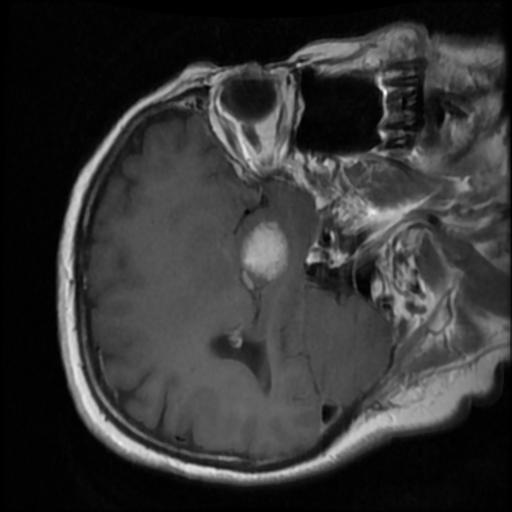meningioma: (239, 220, 289, 284)
